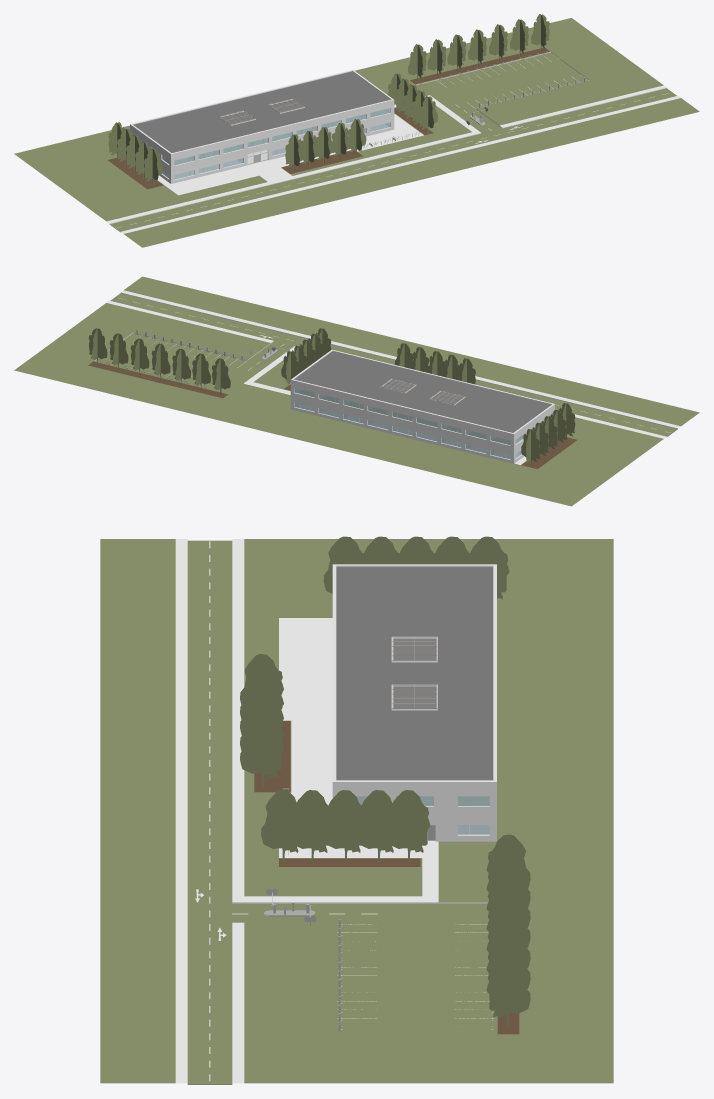
3 renders of one model, top to bottom at view 1: azimuth 30°, elevation 25°; view 2: azimuth 150°, elevation 25°; view 3: azimuth 270°, elevation 25°, orthographic. The views are drawn at different scales.
Parts seen in each view (by area): view 1: 3A8hY1UoD7JhnLeZeDyU4B, 3A8hY1UoD7JhnLeZeDyU2J, 0CWDnGbzX4Sf1BesT9Tj4o, 3A8hY1UoD7JhnLeZeDyUs3, 12bPoIwbv0tBGfPfnvCUc2, 3A8hY1UoD7JhnLeZeDyQc9, 3A8hY1UoD7JhnLeZeDyU2I, 0P898JVsX6VQGfAj0lC8$w, 12bPoIwbv0tBGfPfnvCUau, 0P898JVsX6VQGfAj0lC8w9, 0P898JVsX6VQGfAj0lC8zf, 0P898JVsX6VQGfAj0lC8wV (+12 smaller); view 2: 3A8hY1UoD7JhnLeZeDyU4B, 0CWDnGbzX4Sf1BesT9Tj4o, 3A8hY1UoD7JhnLeZeDyU2J, 12bPoIwbv0tBGfPfnvCUYu, 3A8hY1UoD7JhnLeZeDyUs3, 3A8hY1UoD7JhnLeZeDyU2I, 0P898JVsX6VQGfAj0lC8$w, 12bPoIwbv0tBGfPfnvCUau, 3A8hY1UoD7JhnLeZeDyQc9, 3A8hY1UoD7JhnLeZeDyQto, 0P898JVsX6VQGfAj0lC8zP, 0P898JVsX6VQGfAj0lC8yl (+7 smaller); view 3: 3A8hY1UoD7JhnLeZeDyU4B, 3A8hY1UoD7JhnLeZeDyU2J, 0CWDnGbzX4Sf1BesT9Tj4o, 3A8hY1UoD7JhnLeZeDyUs3, 12bPoIwbv0tBGfPfnvCUW2, 3A8hY1UoD7JhnLeZeDyQc9, 0P898JVsX6VQGfAj0lC8w9, 3A8hY1UoD7JhnLeZeDyQpf, 3A8hY1UoD7JhnLeZeDyQqa, 3A8hY1UoD7JhnLeZeDyQqC, 3A8hY1UoD7JhnLeZeDyQqq, 3A8hY1UoD7JhnLeZeDyQq4 (+9 smaller).
Boxes of the visible parts, x1,y1,x2,y2 form: 3A8hY1UoD7JhnLeZeDyU4B: [14, 18, 699, 247]; 3A8hY1UoD7JhnLeZeDyU2J: [109, 52, 676, 232]; 0CWDnGbzX4Sf1BesT9Tj4o: [133, 71, 390, 152]; 3A8hY1UoD7JhnLeZeDyUs3: [106, 85, 680, 233]; 12bPoIwbv0tBGfPfnvCUc2: [170, 99, 393, 183]; 3A8hY1UoD7JhnLeZeDyQc9: [107, 108, 433, 189]; 3A8hY1UoD7JhnLeZeDyU2I: [109, 52, 666, 224]; 0P898JVsX6VQGfAj0lC8$w: [410, 47, 549, 84]; 12bPoIwbv0tBGfPfnvCUau: [130, 124, 170, 183]; 0P898JVsX6VQGfAj0lC8w9: [531, 14, 549, 54]; 0P898JVsX6VQGfAj0lC8zf: [489, 24, 507, 64]; 0P898JVsX6VQGfAj0lC8wV: [510, 19, 528, 59]; 3A8hY1UoD7JhnLeZeDyU4B: [14, 276, 699, 506]; 0CWDnGbzX4Sf1BesT9Tj4o: [294, 351, 551, 432]; 3A8hY1UoD7JhnLeZeDyU2J: [95, 293, 677, 436]; 12bPoIwbv0tBGfPfnvCUYu: [290, 379, 513, 463]; 3A8hY1UoD7JhnLeZeDyUs3: [106, 290, 680, 464]; 3A8hY1UoD7JhnLeZeDyU2I: [94, 292, 677, 437]; 0P898JVsX6VQGfAj0lC8$w: [88, 361, 228, 398]; 12bPoIwbv0tBGfPfnvCUau: [513, 404, 554, 463]; 3A8hY1UoD7JhnLeZeDyQc9: [284, 384, 576, 468]; 3A8hY1UoD7JhnLeZeDyQto: [521, 429, 539, 465]; 0P898JVsX6VQGfAj0lC8zP: [192, 353, 210, 390]; 0P898JVsX6VQGfAj0lC8yl: [212, 358, 230, 394]; 3A8hY1UoD7JhnLeZeDyU4B: [100, 539, 613, 1083]; 3A8hY1UoD7JhnLeZeDyU2J: [187, 540, 494, 1084]; 0CWDnGbzX4Sf1BesT9Tj4o: [336, 567, 493, 780]; 3A8hY1UoD7JhnLeZeDyUs3: [175, 539, 438, 1083]; 12bPoIwbv0tBGfPfnvCUW2: [332, 781, 494, 841]; 3A8hY1UoD7JhnLeZeDyQc9: [254, 721, 420, 866]; 0P898JVsX6VQGfAj0lC8w9: [486, 954, 530, 1029]; 3A8hY1UoD7JhnLeZeDyQpf: [240, 715, 283, 787]; 3A8hY1UoD7JhnLeZeDyQqa: [261, 790, 304, 862]; 3A8hY1UoD7JhnLeZeDyQqC: [356, 790, 400, 862]; 3A8hY1UoD7JhnLeZeDyQqq: [323, 790, 366, 862]; 3A8hY1UoD7JhnLeZeDyQq4: [386, 790, 430, 862].
Bounding box in the file's own units: 159 × 13.82 × 63.53.
